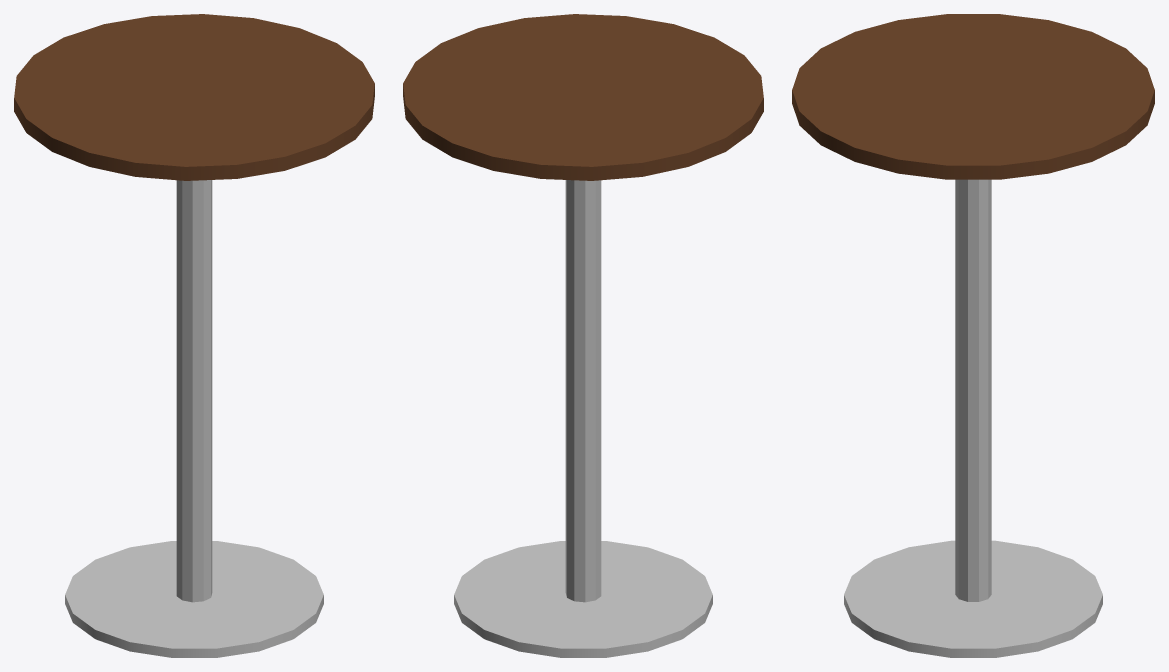
The model's file is hospitality.dining.high_table.glb.
The picture shows the model from 3 angles, left to right: view 1: azimuth 30°, elevation 25°; view 2: azimuth 150°, elevation 25°; view 3: azimuth 270°, elevation 25°; orthographic projection.
Visible parts, largest first — view 1: main__hardwood, main__steel_stainless; view 2: main__hardwood, main__steel_stainless; view 3: main__hardwood, main__steel_stainless.
Boxes of the visible parts, <box> form: main__hardwood: <box>14,14,374,180</box>; main__steel_stainless: <box>65,180,323,657</box>; main__hardwood: <box>403,14,763,180</box>; main__steel_stainless: <box>454,180,712,657</box>; main__hardwood: <box>792,14,1154,179</box>; main__steel_stainless: <box>844,179,1102,657</box>.
Bounding box in the file's own units: 0.6929 × 1.1 × 0.7.
